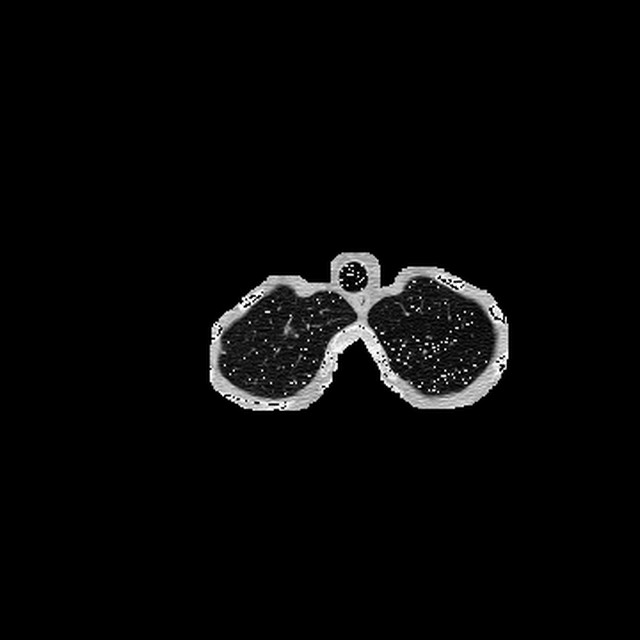PN: (281, 324, 292, 334)
